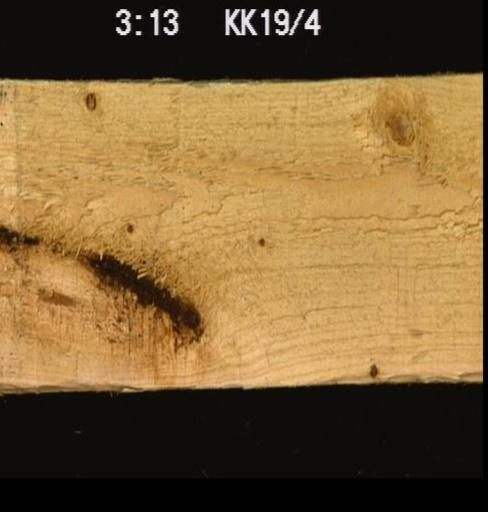dry_knot: (83, 90, 97, 111)
edge_knot: (367, 360, 378, 377)
small_knot: (256, 233, 267, 247)
sound_knot: (348, 78, 451, 185)
wave: (300, 368, 481, 383)
